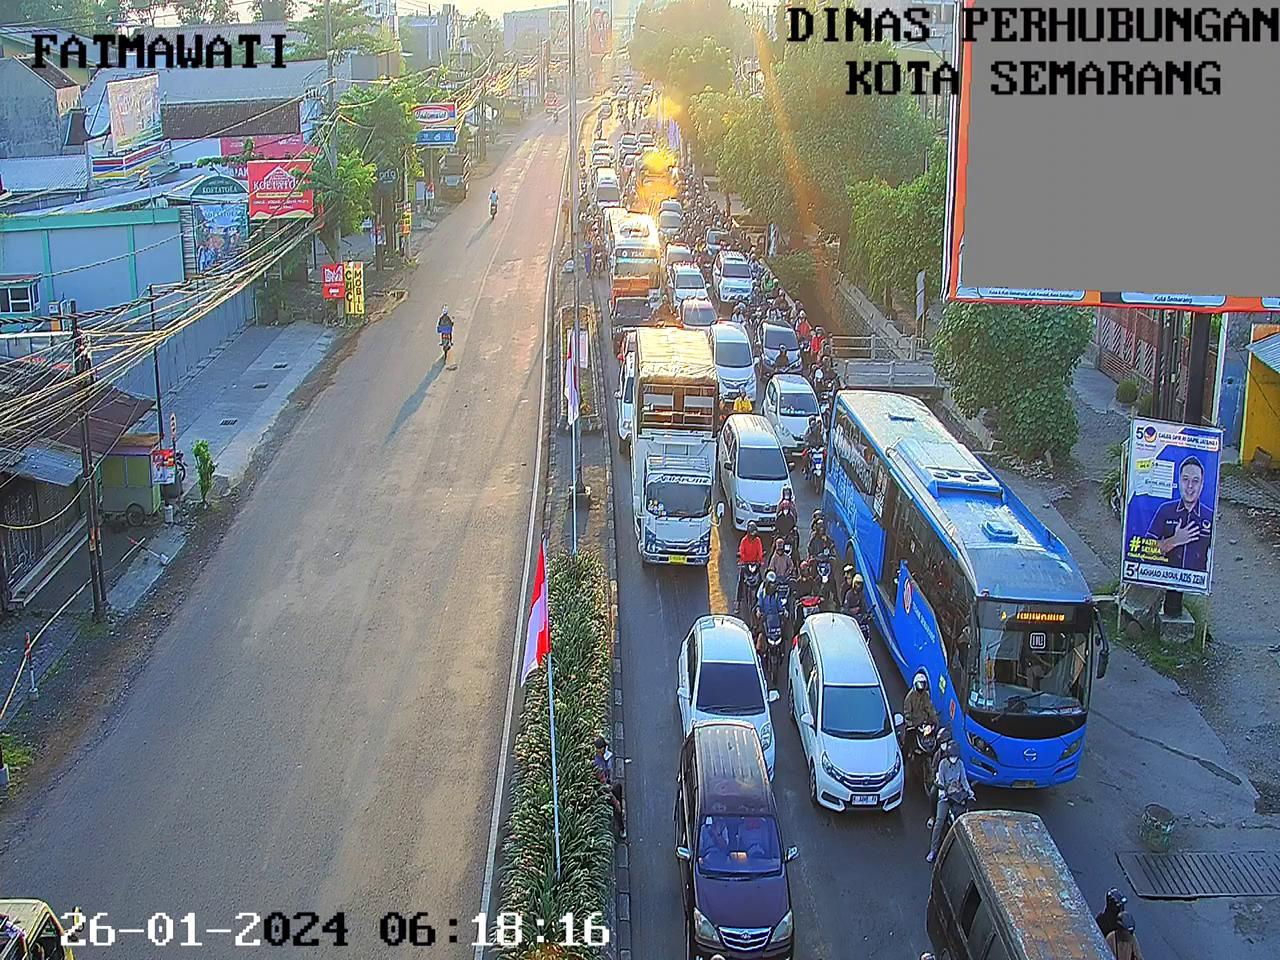bus: (936, 510, 1073, 785)
car: (684, 735, 795, 951), (942, 838, 1093, 960), (807, 634, 889, 798), (678, 619, 771, 749), (732, 424, 785, 515), (714, 323, 754, 400), (771, 373, 813, 441), (763, 323, 799, 374), (622, 362, 643, 439), (718, 254, 748, 298), (684, 297, 715, 339), (673, 263, 703, 301), (620, 331, 640, 369), (598, 167, 617, 203), (604, 207, 621, 242), (666, 245, 687, 272), (662, 213, 679, 238), (590, 155, 611, 174), (599, 95, 613, 118), (664, 201, 683, 217), (600, 149, 617, 166), (623, 156, 638, 175), (621, 137, 635, 156), (708, 230, 720, 250), (638, 134, 655, 148), (618, 88, 629, 106), (593, 139, 604, 149), (643, 85, 652, 97), (636, 90, 643, 101)
motorcycle: (906, 672, 942, 795), (935, 729, 971, 852), (756, 577, 791, 677), (1101, 884, 1141, 960), (843, 564, 873, 648), (813, 513, 840, 599), (802, 413, 828, 499), (739, 523, 767, 600), (776, 541, 796, 622), (798, 558, 816, 638), (779, 488, 799, 550), (1110, 466, 1129, 521), (814, 370, 833, 426), (800, 312, 815, 368), (655, 292, 673, 333), (822, 354, 836, 404), (731, 389, 758, 413), (750, 287, 767, 326), (731, 297, 747, 333), (592, 236, 605, 279), (821, 341, 837, 378), (765, 287, 780, 324), (774, 346, 791, 375), (813, 329, 827, 364), (751, 264, 763, 301), (777, 289, 790, 321), (594, 229, 605, 258), (701, 251, 712, 282), (696, 238, 708, 266), (773, 277, 786, 301), (578, 191, 589, 217), (764, 270, 774, 297), (584, 216, 594, 242), (685, 228, 696, 250), (757, 259, 767, 283), (731, 221, 741, 245), (578, 198, 587, 224), (578, 168, 587, 194), (740, 228, 749, 252), (749, 253, 759, 274), (578, 144, 587, 167), (590, 223, 599, 245), (749, 241, 758, 262), (703, 211, 713, 232), (591, 217, 600, 238), (721, 232, 729, 255), (626, 185, 634, 208), (689, 207, 696, 233), (713, 215, 723, 233), (693, 212, 702, 232), (622, 194, 631, 214), (744, 235, 753, 254), (726, 212, 733, 236), (705, 196, 712, 219), (672, 162, 679, 186), (688, 176, 695, 199), (666, 160, 673, 183), (624, 116, 632, 135), (590, 190, 596, 215), (711, 199, 720, 215), (695, 174, 702, 194), (631, 112, 638, 131), (619, 108, 626, 127), (678, 228, 686, 244), (682, 210, 688, 231), (721, 208, 727, 228), (683, 181, 689, 201), (630, 169, 636, 190), (650, 123, 657, 140), (631, 178, 636, 202), (690, 194, 696, 213), (696, 196, 703, 212), (683, 197, 688, 217), (677, 181, 682, 201), (738, 242, 744, 258), (672, 229, 678, 245), (684, 165, 690, 182), (596, 125, 602, 140), (696, 186, 701, 203), (618, 155, 622, 176), (616, 103, 621, 119), (643, 102, 648, 118), (647, 91, 652, 107), (598, 114, 603, 129), (625, 99, 630, 114), (660, 134, 664, 152), (639, 101, 643, 119), (673, 154, 678, 167), (614, 89, 619, 102), (654, 90, 659, 103), (655, 133, 659, 149), (632, 88, 636, 104), (668, 150, 673, 162), (632, 100, 636, 115), (644, 122, 649, 134), (663, 145, 667, 159), (665, 147, 669, 160), (605, 142, 609, 153)
truck: (631, 335, 729, 567), (612, 210, 655, 320), (643, 163, 666, 197)
